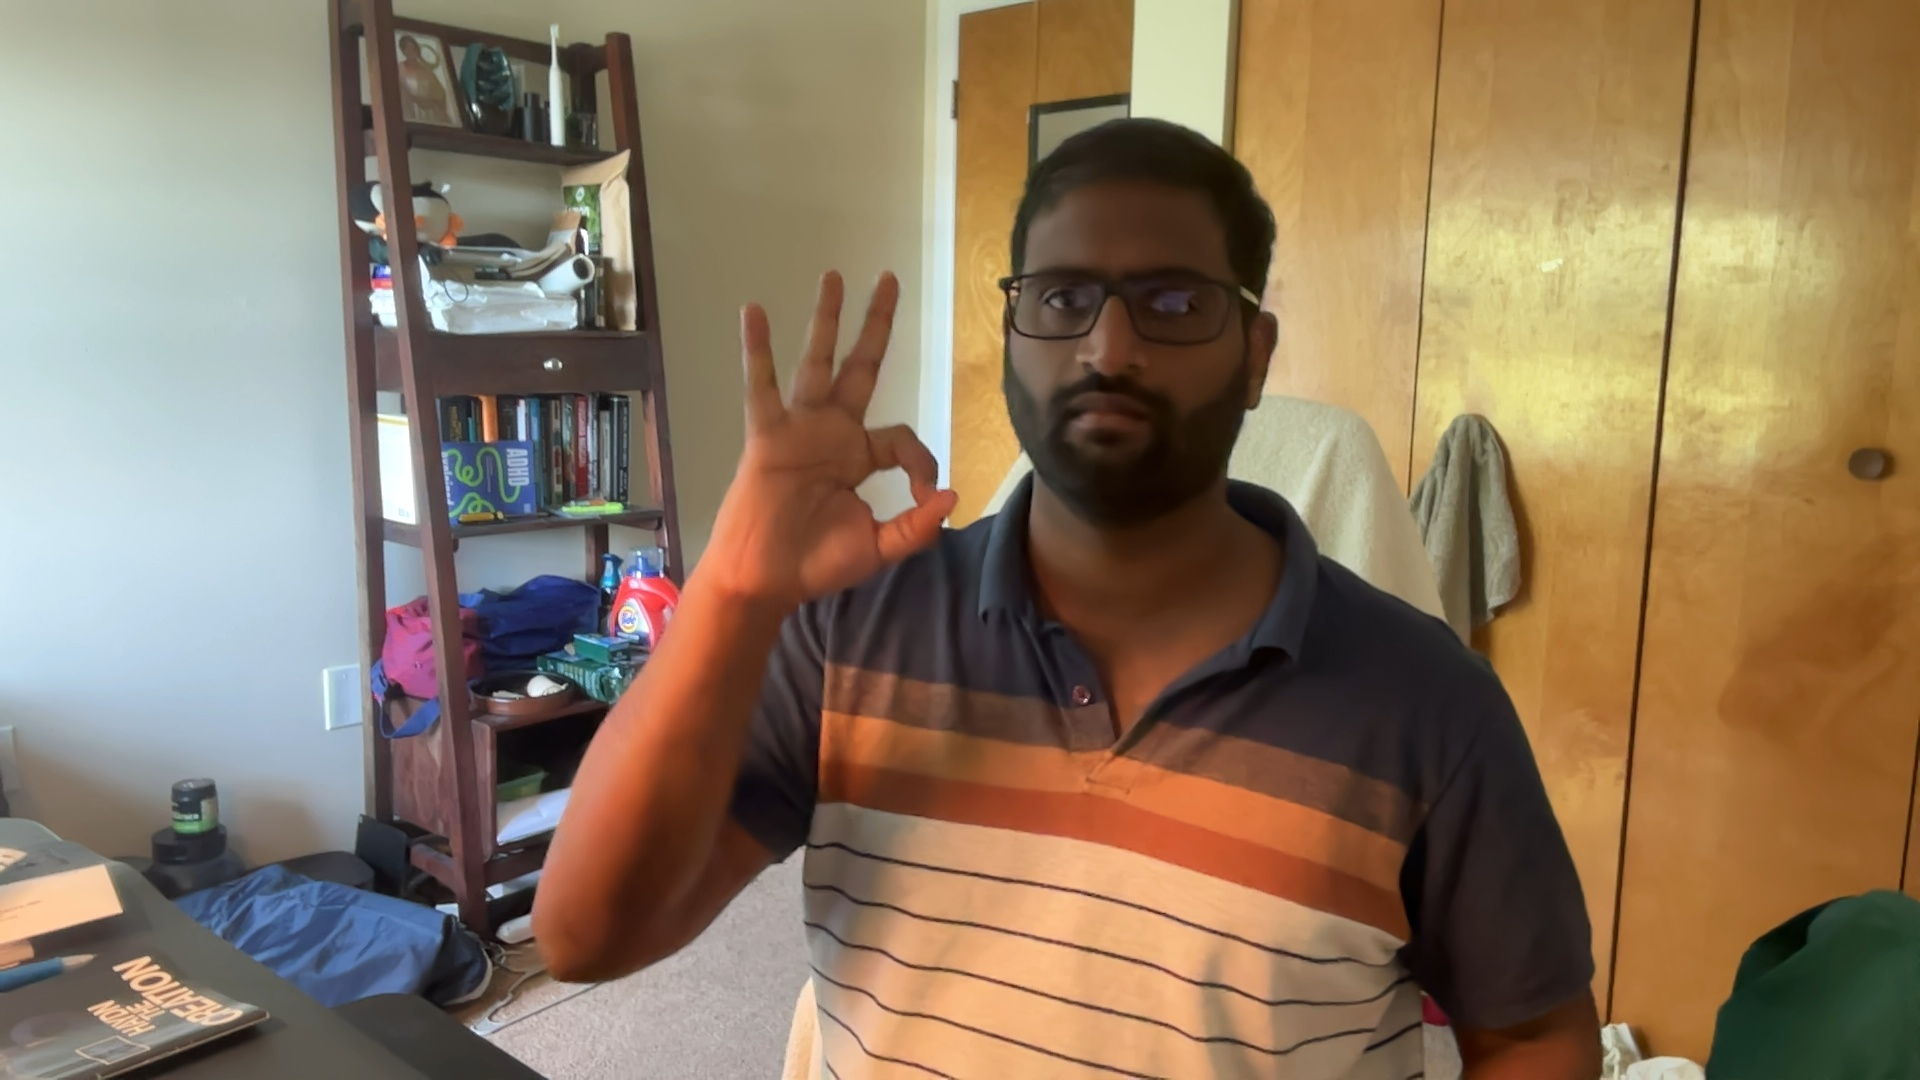OK: (737, 265, 959, 593)
